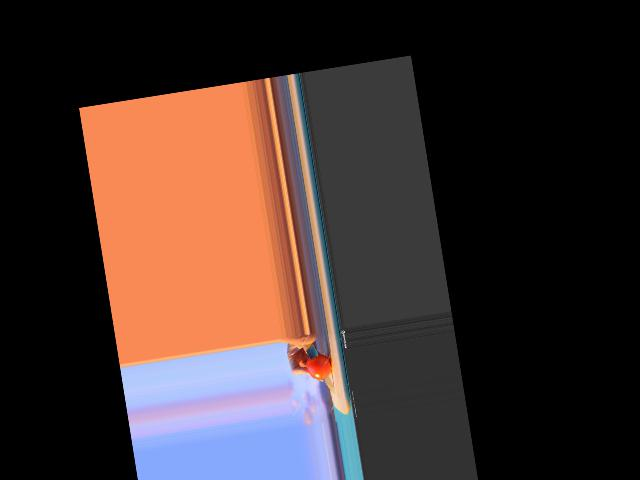tomato: (305, 352, 333, 382)
